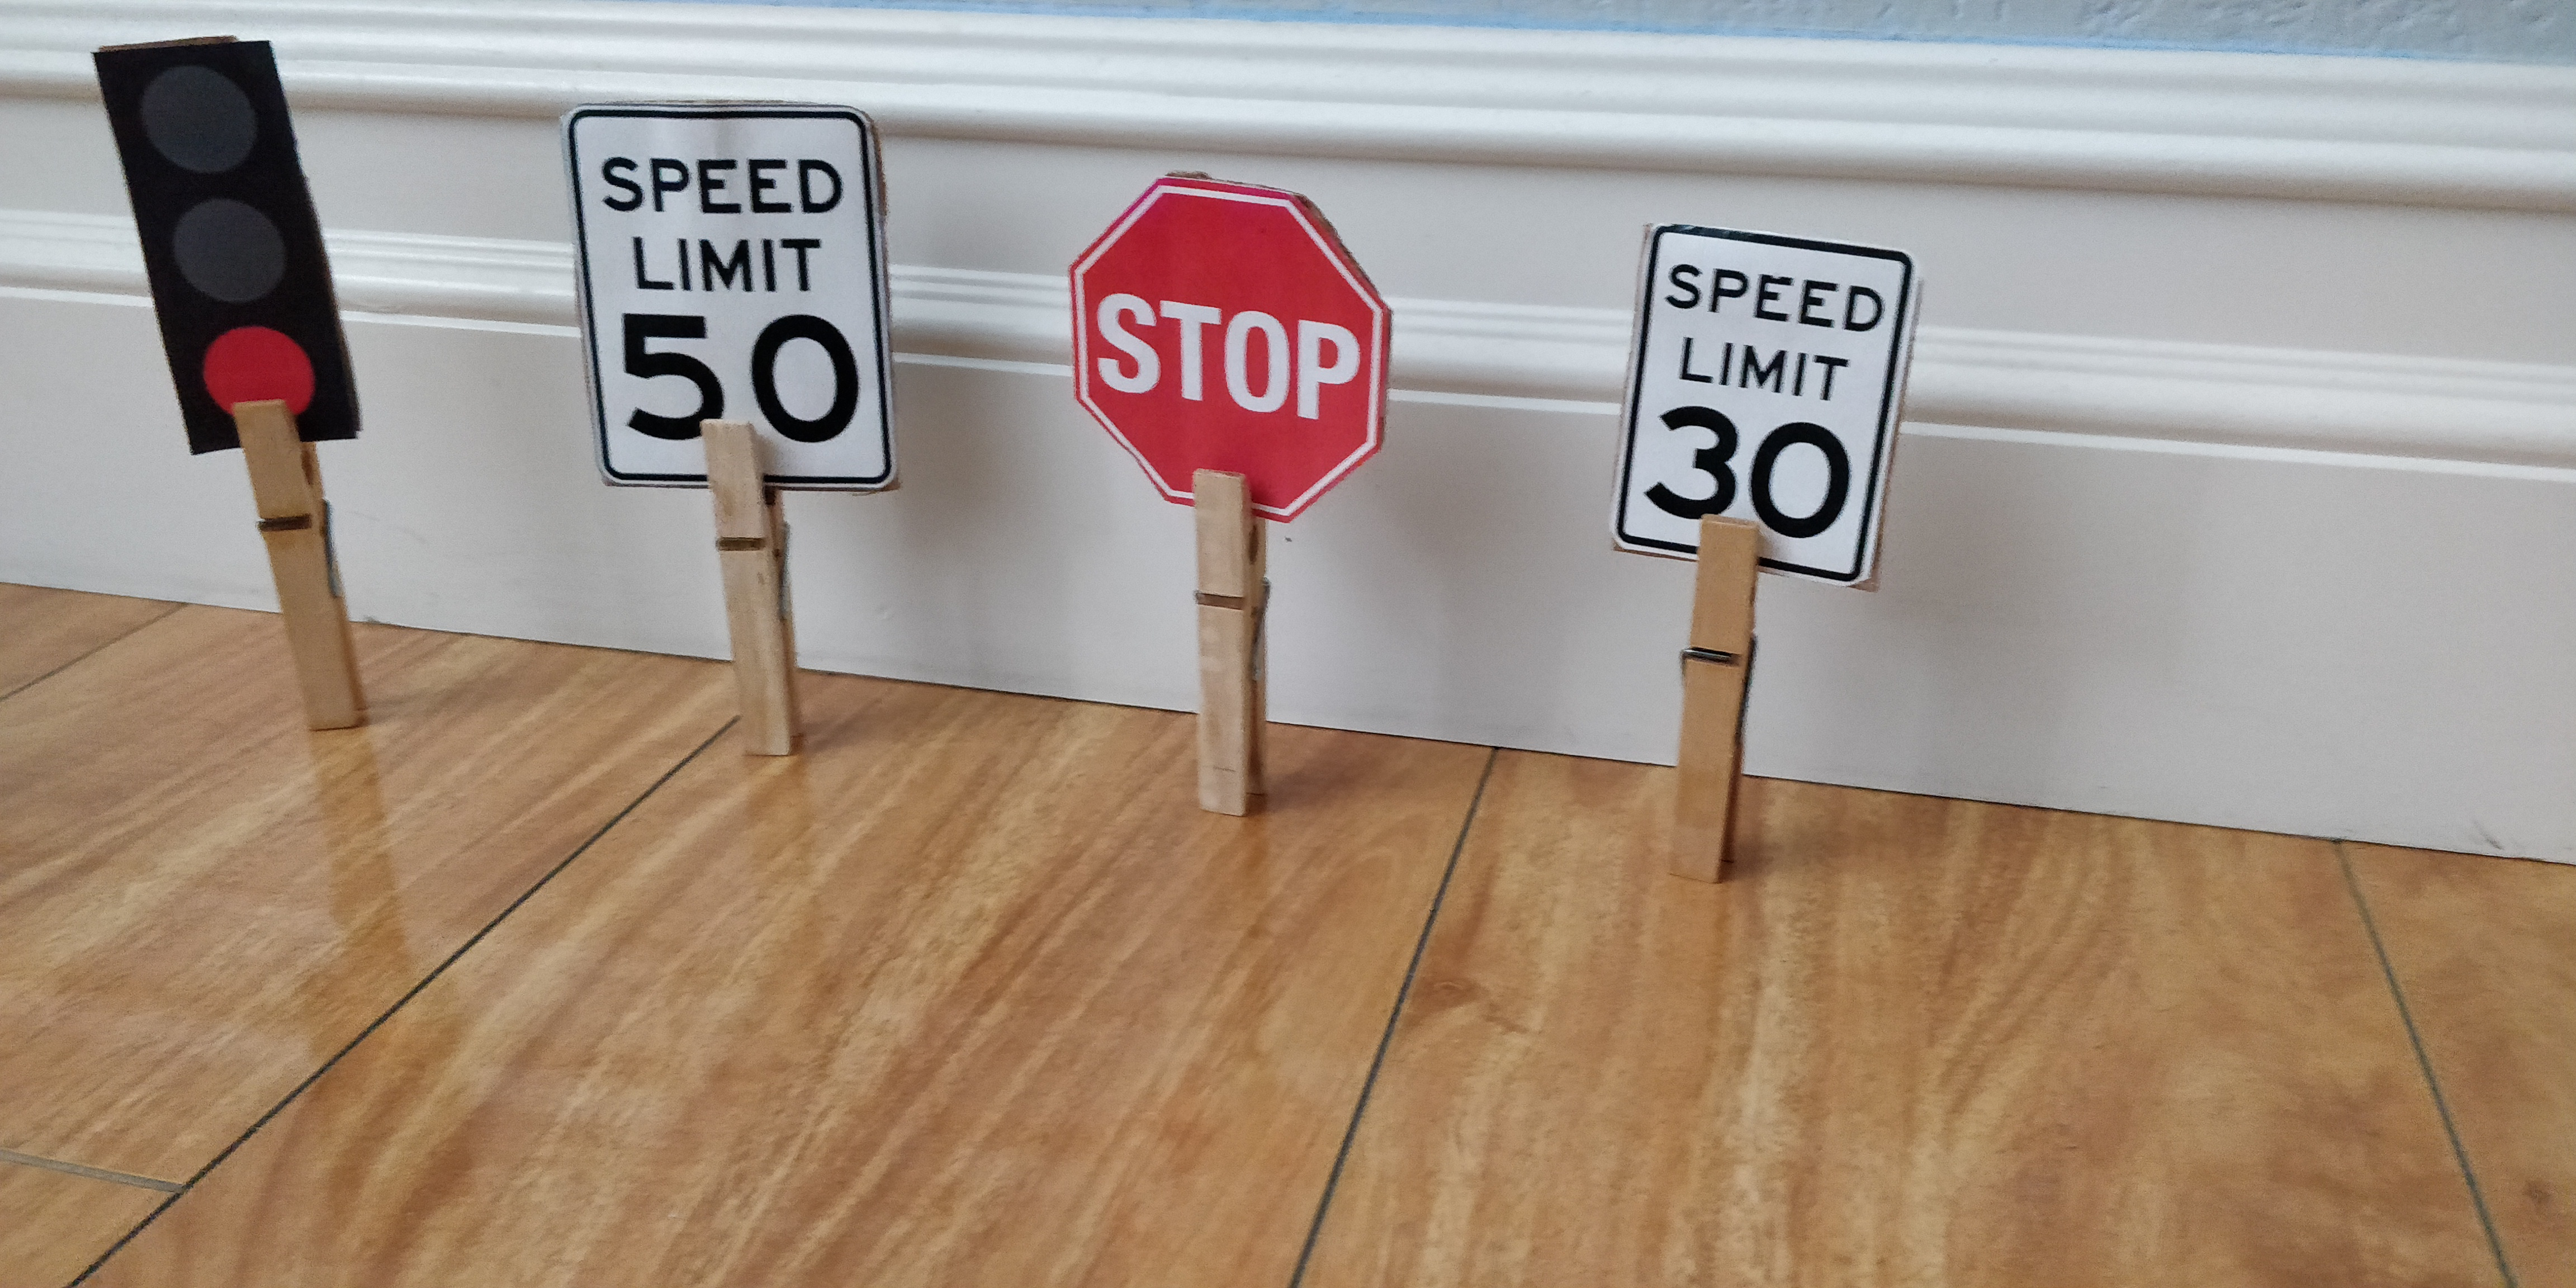Speed Limit 30: (1607, 222, 1922, 590)
Speed Limit 50: (559, 110, 894, 488)
Stop Sign: (1071, 184, 1392, 526)
red light: (92, 34, 360, 455)
